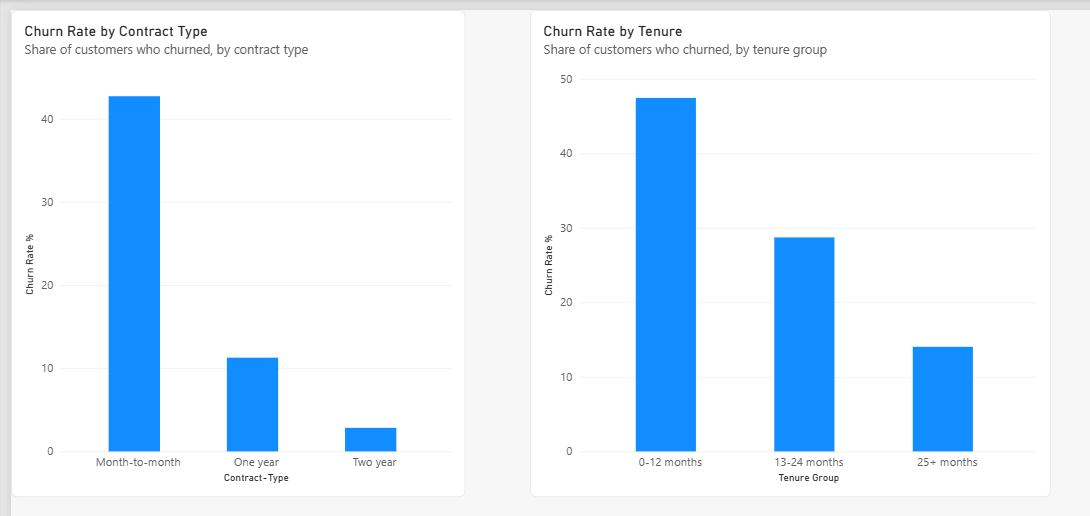

The page's visual inventory and layout, read from the dashboard file:
{"tool":"powerbi","page":{"name":"Churn_Project","canvas":[1920,1080],"ordinal":0},"visuals":[{"type":"clusteredColumnChart","title":"Churn Rate by Contract Type","fields":{"Category":["churn_project telco_churn.Contract"],"Y":["churn_project telco_churn.Churn Rate %"]},"box":[0,0,567.5,608.8],"z":0},{"type":"clusteredColumnChart","title":"Churn Rate by Tenure","fields":{"Category":["churn_project telco_churn.Tenure Group"],"Y":["churn_project telco_churn.Churn Rate %"]},"box":[648.8,0,651.2,608.8],"z":1}]}

Visuals, with their boxes on the page's 1920x1080 design canvas (x1, y1, x2, y2). These are canvas units, not pixel positions in the 1090x516 screenshot, which may show the page scaled, cropped or inside an application window:
"Churn Rate by Contract Type" clusteredColumnChart: 0, 0, 568, 609
"Churn Rate by Tenure" clusteredColumnChart: 649, 0, 1300, 609
